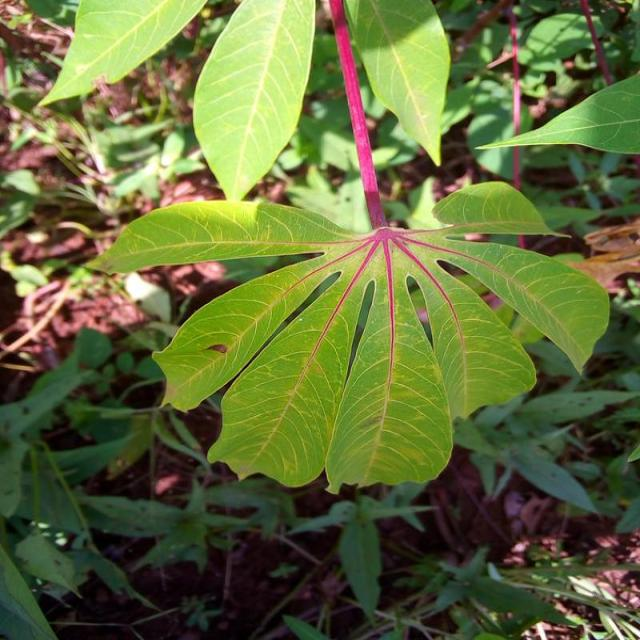cassava leaf: (84, 0, 610, 495), (191, 0, 315, 201), (36, 0, 205, 108), (341, 0, 450, 166), (473, 70, 638, 155)
